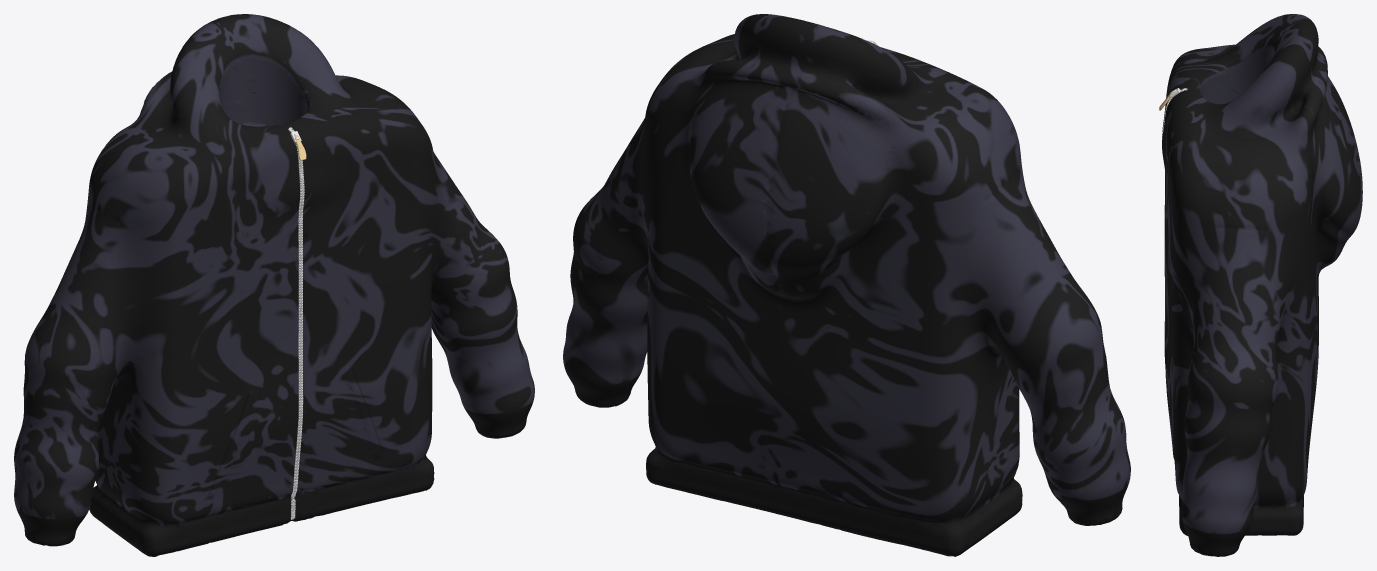
File: ressac-noir-absolu.glb
3 renders of one model, left to right at view 1: azimuth 30°, elevation 25°; view 2: azimuth 150°, elevation 25°; view 3: azimuth 270°, elevation 25°, orthographic. The views are drawn at different scales.
Visible parts, largest first — view 1: KYMA Ressac — Noir Absolu (visuel de présentation 3D); view 2: KYMA Ressac — Noir Absolu (visuel de présentation 3D); view 3: KYMA Ressac — Noir Absolu (visuel de présentation 3D).
Boxes of the visible parts, box(x1,y1,x2,y2) form: KYMA Ressac — Noir Absolu (visuel de présentation 3D): box(14, 14, 534, 556); KYMA Ressac — Noir Absolu (visuel de présentation 3D): box(563, 14, 1130, 556); KYMA Ressac — Noir Absolu (visuel de présentation 3D): box(1159, 14, 1362, 556).
Bounding box in the file's own units: 1.04 × 0.8959 × 0.3715.
3 materials, 1 textured.
